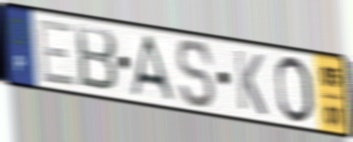A: (129, 33, 178, 105)
B: (73, 22, 119, 94)
E: (35, 17, 79, 90)
K: (233, 47, 269, 119)
O: (273, 54, 316, 126)
S: (175, 38, 218, 111)
